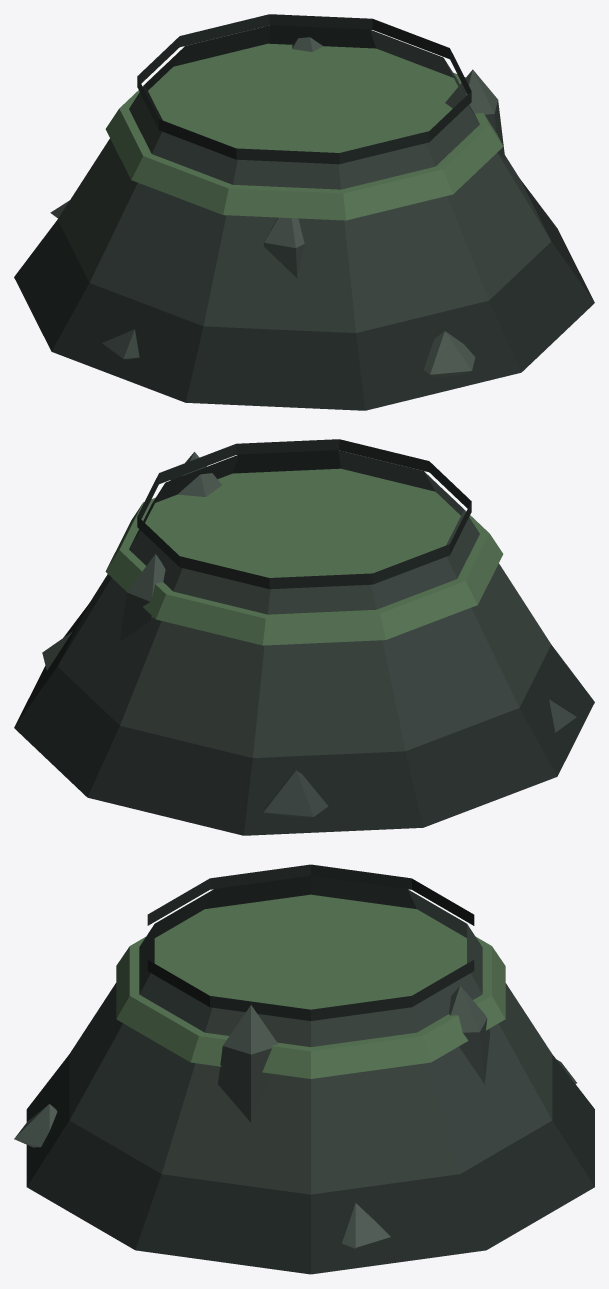
The model's file is carbon-node.obj.
The picture shows the model from 3 angles, top to bottom: view 1: azimuth 30°, elevation 25°; view 2: azimuth 150°, elevation 25°; view 3: azimuth 270°, elevation 25°; orthographic projection. The views are drawn at different scales.
Parts seen in each view (by area): view 1: carbon-node; view 2: carbon-node; view 3: carbon-node.
Part boxes in pixels (<box>): carbon-node: <box>14,14,594,410</box>; carbon-node: <box>14,439,594,835</box>; carbon-node: <box>14,864,594,1274</box>.
Size of the model in its own units: 8 by 3.15 by 7.78.
